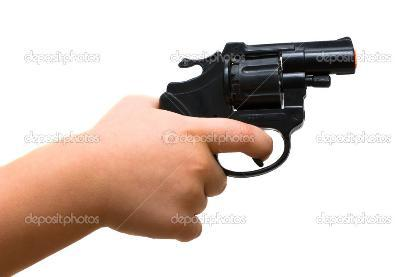pistol: (133, 31, 361, 240)
